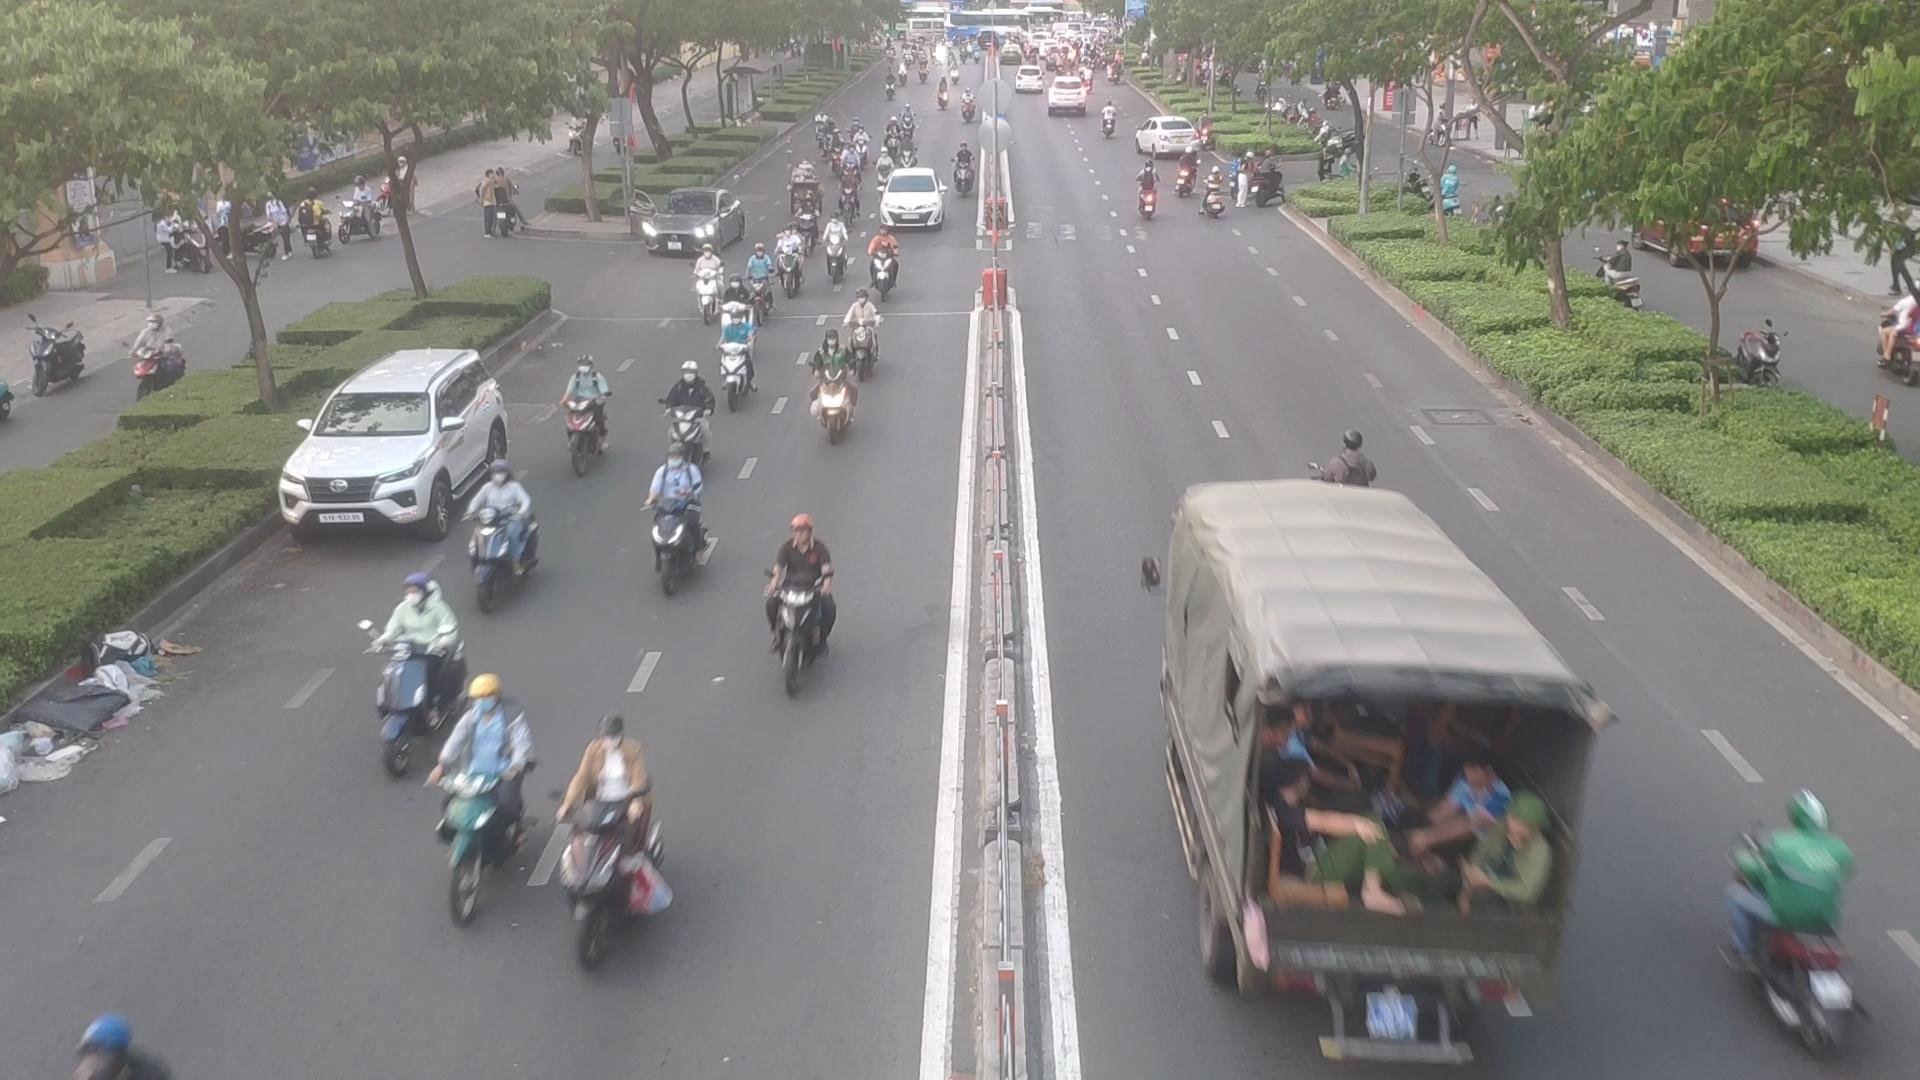car: (1153, 491, 1592, 1036), (280, 353, 513, 542), (632, 189, 752, 258), (872, 169, 942, 229), (1135, 116, 1196, 156)
motorbike: (1706, 775, 1867, 1050), (527, 691, 670, 992), (431, 676, 541, 924), (371, 575, 477, 781), (467, 462, 546, 589), (646, 452, 711, 600), (764, 516, 816, 676), (553, 355, 621, 471), (663, 359, 709, 469), (1305, 436, 1390, 487), (812, 326, 852, 433), (721, 305, 758, 417), (840, 294, 880, 376), (862, 227, 895, 297), (779, 225, 807, 301), (692, 247, 717, 320), (794, 185, 819, 252), (819, 216, 843, 286), (951, 140, 976, 204), (745, 247, 769, 309), (1174, 145, 1196, 204), (1135, 162, 1160, 214), (1204, 164, 1226, 218), (837, 165, 857, 215), (873, 144, 891, 189), (884, 119, 903, 156), (897, 140, 915, 178), (827, 132, 843, 167), (853, 127, 868, 164)
